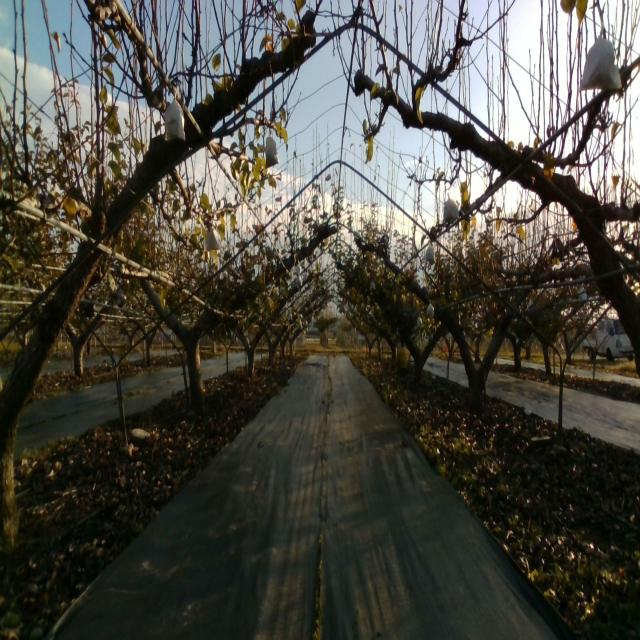pearbags: (578, 24, 623, 91), (163, 84, 186, 144), (264, 135, 280, 169), (203, 223, 222, 250), (443, 192, 460, 222)
